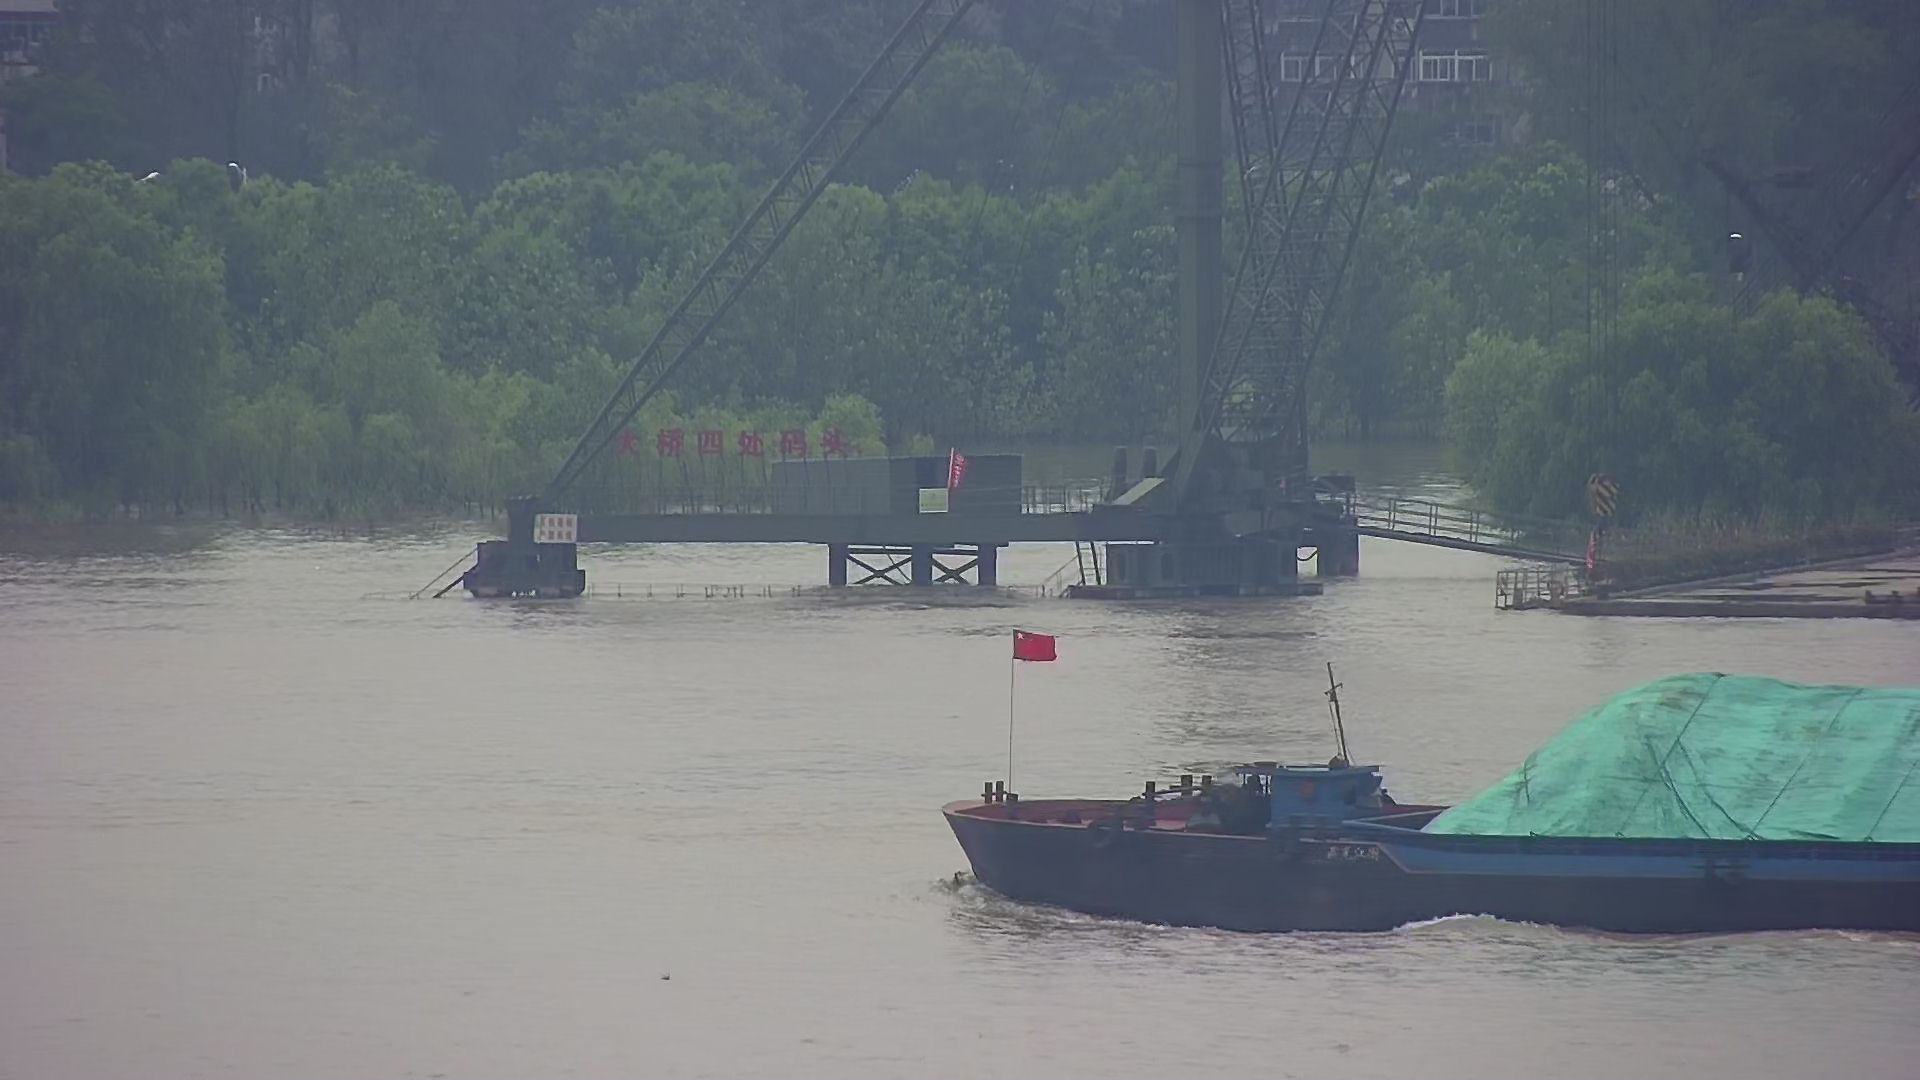platform: (404, 1, 1410, 605)
ship: (927, 621, 1920, 980)
